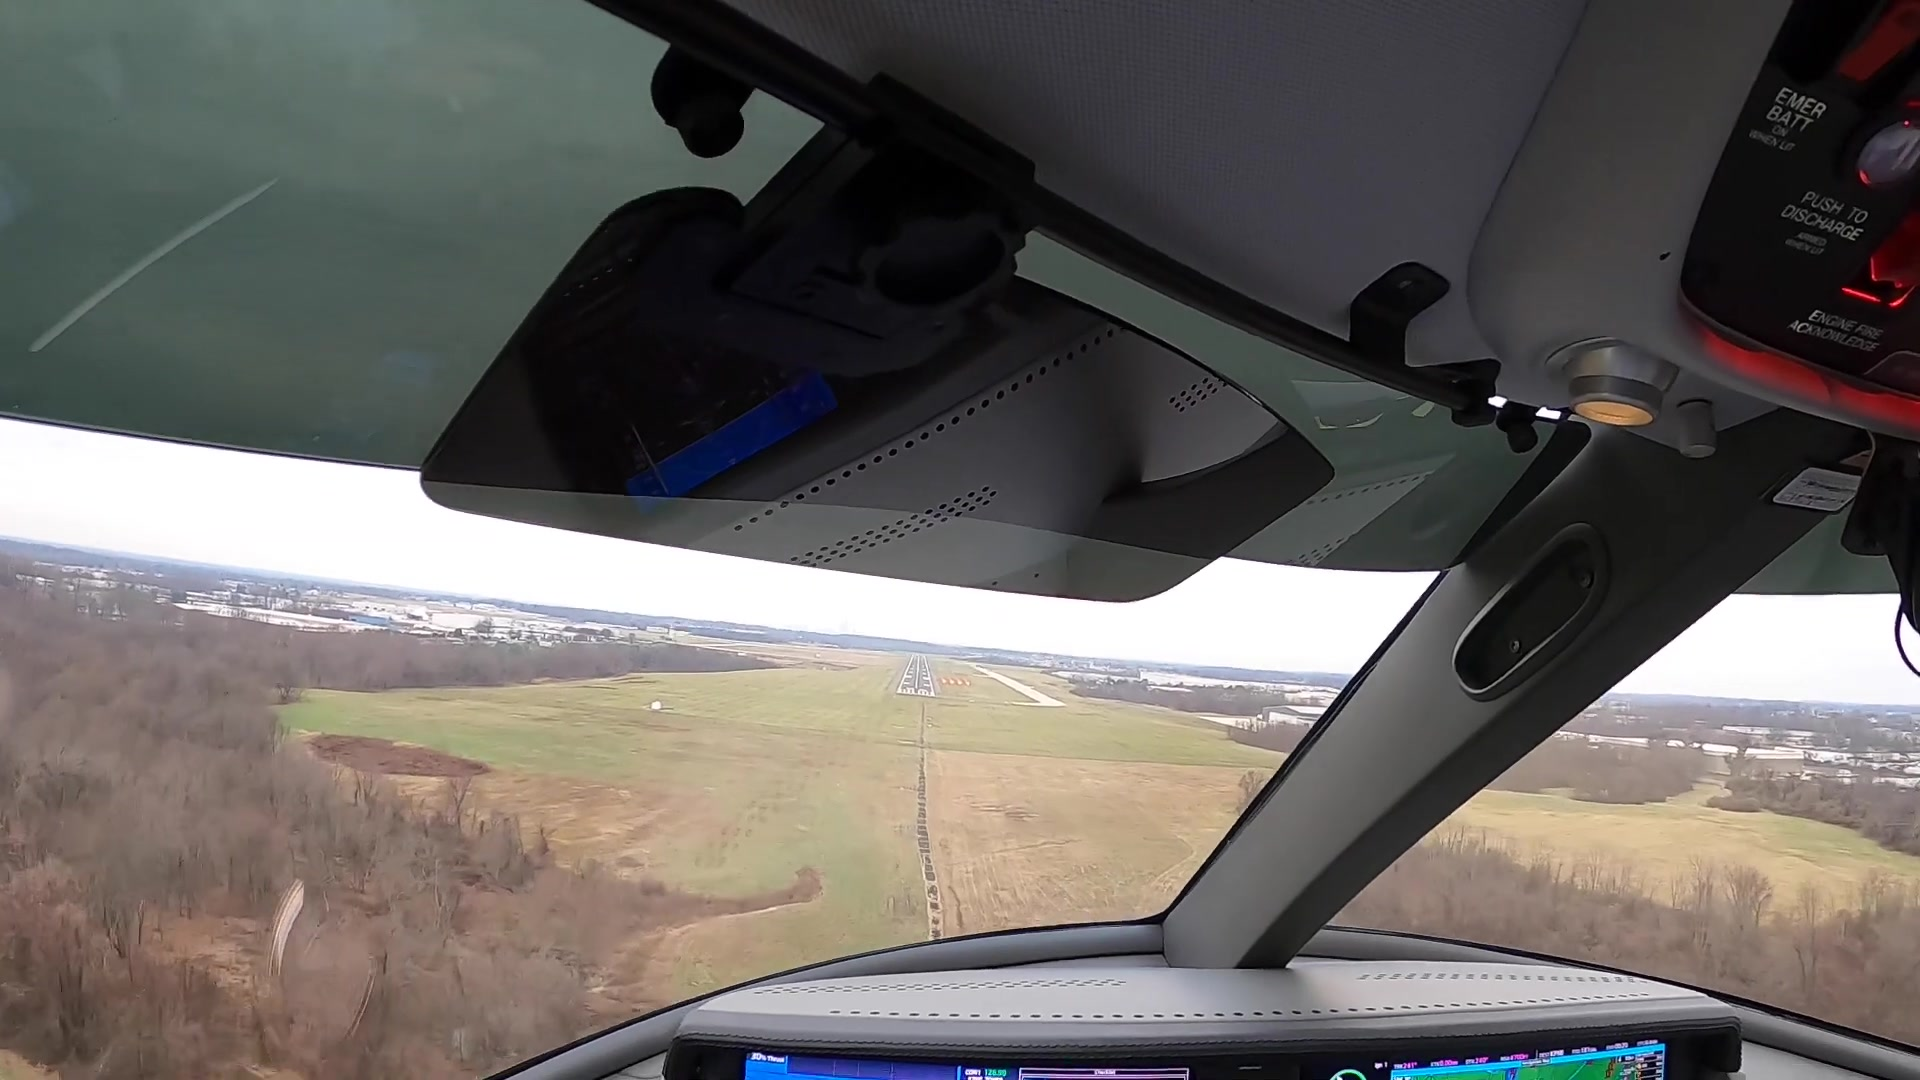entrance: (895, 688, 932, 698)
runway: (894, 653, 939, 700)
